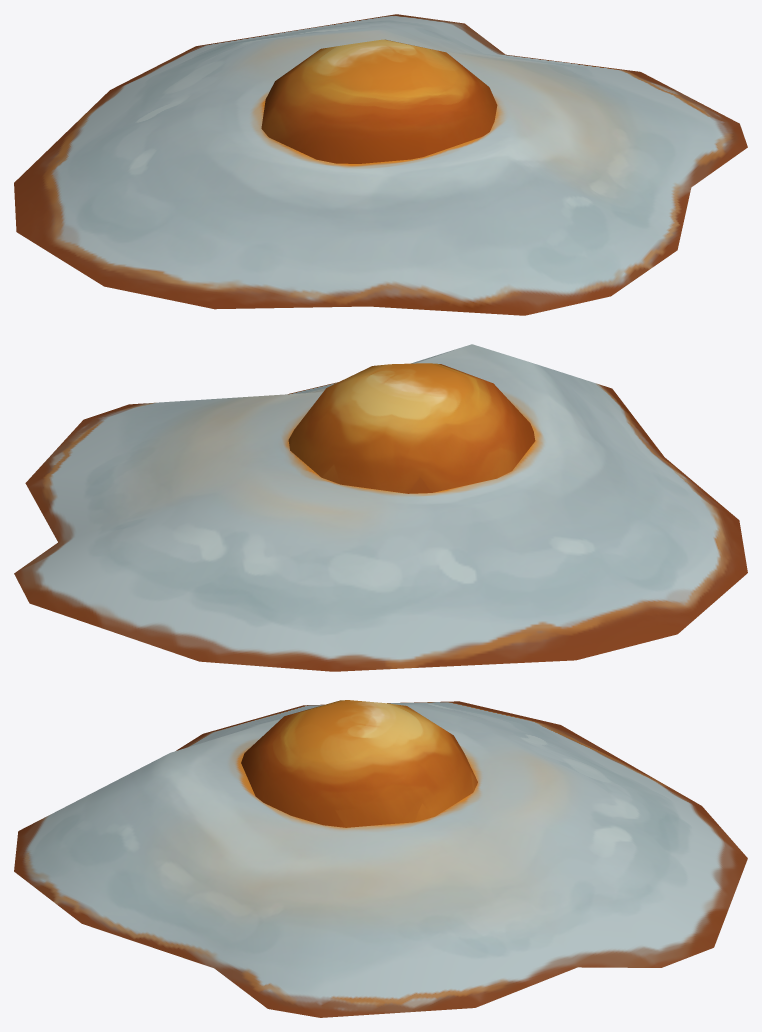
Rendered from eggcooked.fbx.
3 renders of one model, top to bottom at view 1: azimuth 30°, elevation 25°; view 2: azimuth 150°, elevation 25°; view 3: azimuth 270°, elevation 25°, orthographic. The views are drawn at different scales.
Visible parts, largest first — view 1: eggcooked; view 2: eggcooked; view 3: eggcooked.
Part boxes in pixels (box(x1,y1,x2,y2)): eggcooked: box(14, 14, 747, 315); eggcooked: box(14, 344, 747, 671); eggcooked: box(14, 700, 747, 1017).
Bounding box in the file's own units: 28.23 × 5.77 × 27.65.
